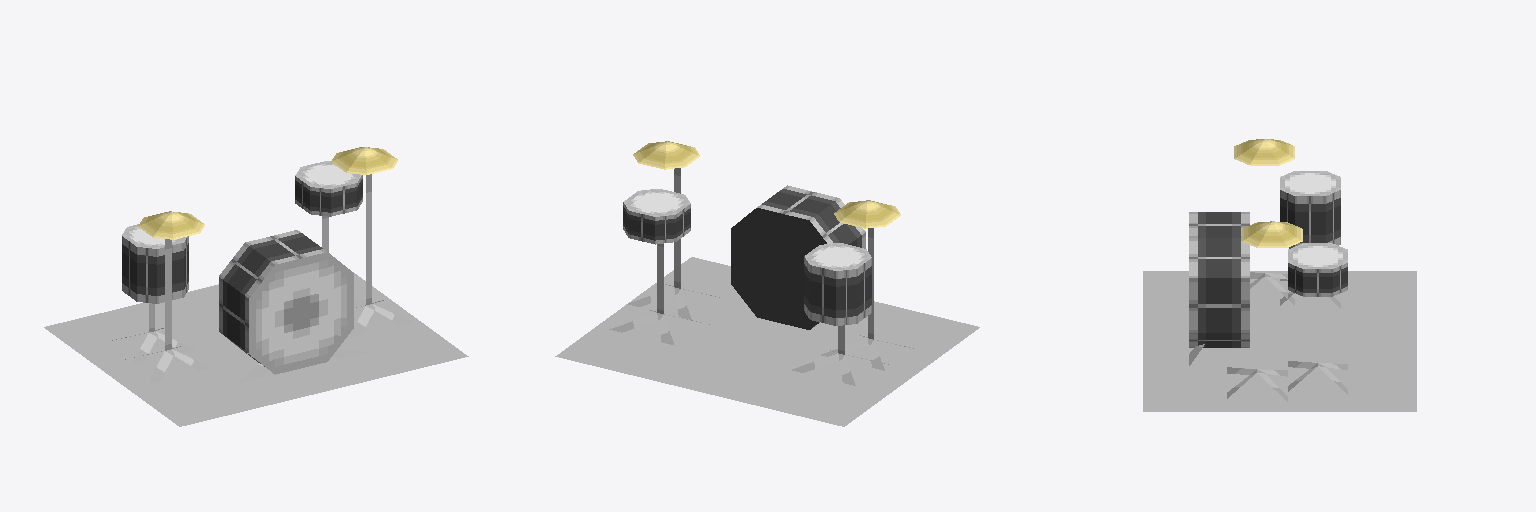
The picture shows the model from 3 angles: view 1: azimuth 30°, elevation 25°; view 2: azimuth 150°, elevation 25°; view 3: azimuth 270°, elevation 25°; orthographic projection.
Visible parts, largest first — view 1: polygon0, polygon1; view 2: polygon1, polygon0; view 3: polygon1, polygon0.
Part boxes in pixels (x1,y1,x2,y2): polygon0: (112, 147, 413, 383); polygon1: (44, 272, 468, 426); polygon1: (555, 257, 979, 426); polygon0: (609, 141, 913, 385); polygon1: (1143, 271, 1416, 411); polygon0: (1189, 139, 1347, 401).
Size of the model in its own units: 11 by 6.25 by 9.
2 materials, 1 textured.